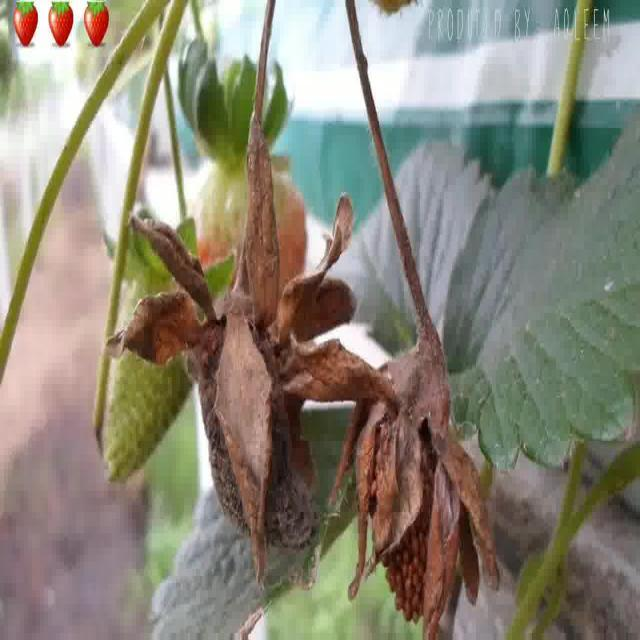Mancha negra Antracnosis: (345, 318, 487, 633), (189, 297, 316, 553)
